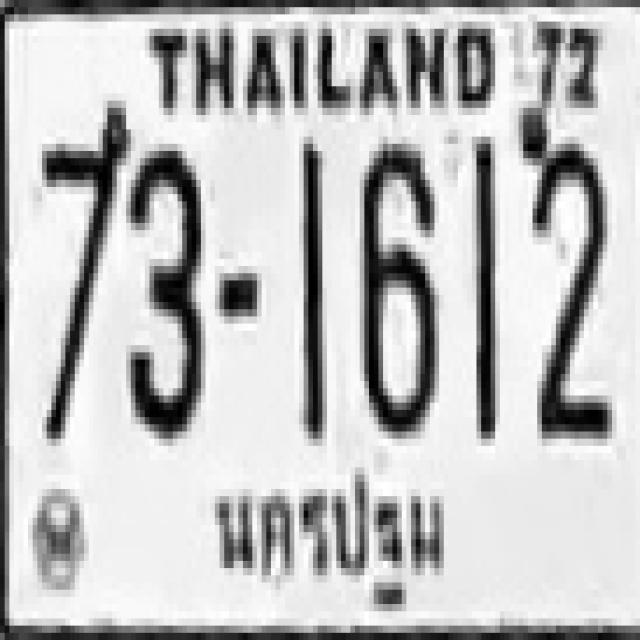1: (470, 136, 498, 438), (294, 140, 322, 435), (296, 140, 324, 435)
2: (528, 136, 607, 438)
3: (121, 144, 201, 431)
6: (355, 136, 434, 432)
7: (37, 104, 126, 435)
NakhonPathom: (191, 480, 482, 610)
